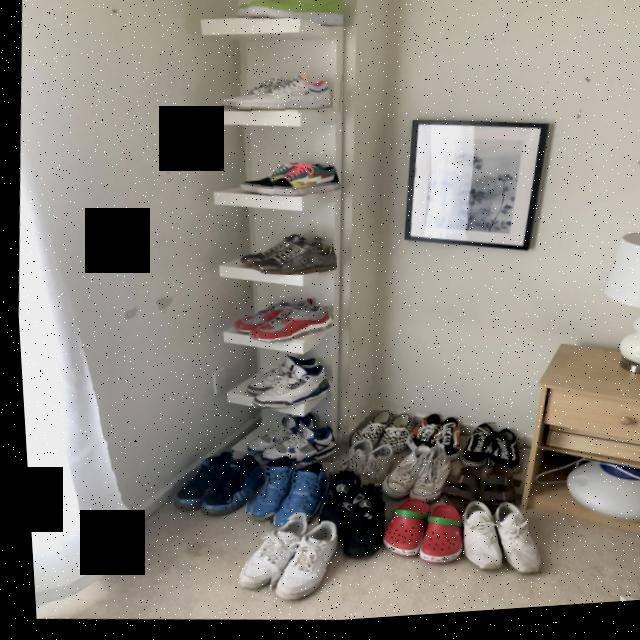shoe: (257, 519, 340, 612), (227, 511, 306, 604), (233, 72, 344, 126), (190, 443, 260, 525), (162, 445, 233, 521), (259, 462, 329, 538), (243, 363, 328, 421), (252, 418, 338, 474), (240, 304, 334, 355), (232, 0, 357, 37), (244, 235, 338, 284), (251, 161, 344, 209), (236, 453, 294, 529), (340, 407, 411, 463), (372, 446, 430, 510), (397, 447, 451, 512), (478, 429, 520, 483), (450, 426, 492, 479)
